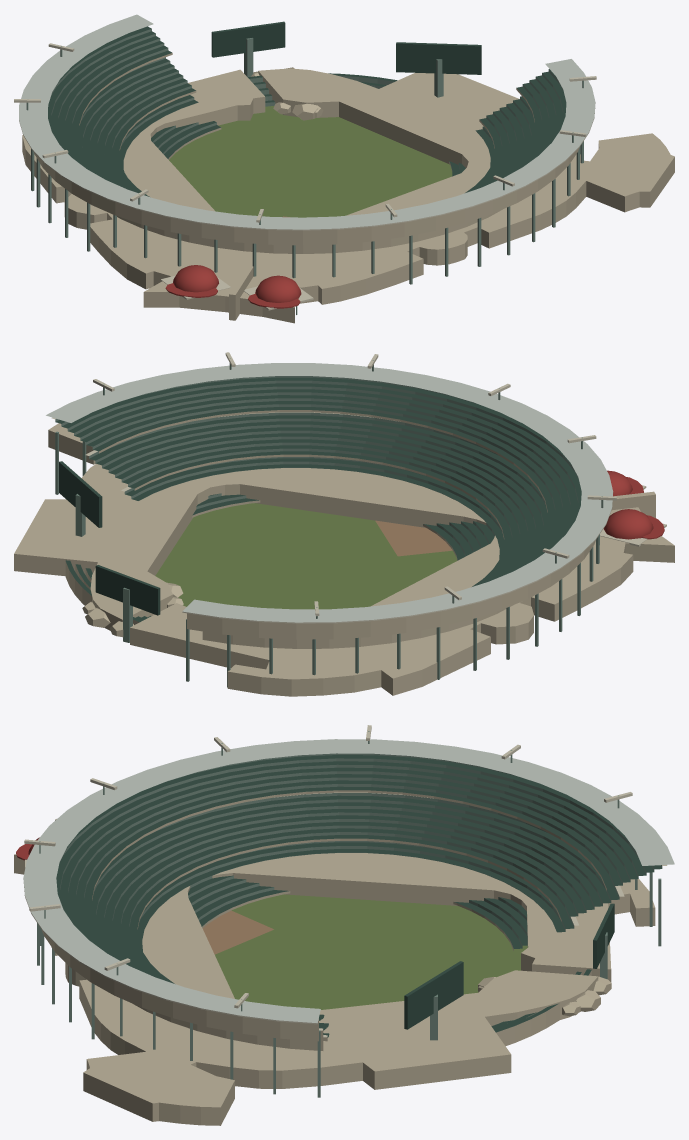
The model's file is angel-stadium-far.glb.
The picture shows the model from 3 angles, top to bottom: view 1: azimuth 30°, elevation 25°; view 2: azimuth 150°, elevation 25°; view 3: azimuth 270°, elevation 25°; orthographic projection. The views are drawn at different scales.
Visible parts, largest first — view 1: angel-stadium-0-stone, angel-stadium-0-dark, angel-stadium-0-turf, angel-stadium-0-roof, angel-stadium-0-metal, angel-stadium-0-accent, angel-stadium-0-trim; view 2: angel-stadium-0-stone, angel-stadium-0-dark, angel-stadium-0-metal, angel-stadium-0-turf, angel-stadium-0-roof, angel-stadium-0-trim, angel-stadium-0-accent, angel-stadium-0-dirt; view 3: angel-stadium-0-stone, angel-stadium-0-dark, angel-stadium-0-metal, angel-stadium-0-turf, angel-stadium-0-roof, angel-stadium-0-trim, angel-stadium-0-dirt.
Boxes of the visible parts, x1,y1,x2,y2 form: angel-stadium-0-stone: [22, 53, 674, 323]; angel-stadium-0-dark: [48, 21, 566, 196]; angel-stadium-0-turf: [169, 106, 452, 217]; angel-stadium-0-roof: [19, 14, 595, 229]; angel-stadium-0-metal: [26, 28, 583, 314]; angel-stadium-0-accent: [165, 265, 301, 308]; angel-stadium-0-trim: [14, 43, 596, 310]; angel-stadium-0-stone: [14, 410, 674, 696]; angel-stadium-0-dark: [55, 377, 581, 622]; angel-stadium-0-metal: [55, 358, 603, 687]; angel-stadium-0-turf: [155, 503, 457, 609]; angel-stadium-0-roof: [46, 363, 613, 622]; angel-stadium-0-trim: [51, 352, 666, 623]; angel-stadium-0-accent: [603, 470, 664, 539]; angel-stadium-0-dirt: [375, 520, 452, 556]; angel-stadium-0-stone: [14, 790, 655, 1125]; angel-stadium-0-dark: [56, 755, 662, 1037]; angel-stadium-0-metal: [37, 731, 662, 1097]; angel-stadium-0-turf: [215, 894, 527, 1009]; angel-stadium-0-roof: [23, 739, 674, 1023]; angel-stadium-0-trim: [23, 725, 667, 1037]; angel-stadium-0-dirt: [202, 910, 273, 954].
Size of the model in its own units: 279 by 39 by 253.
